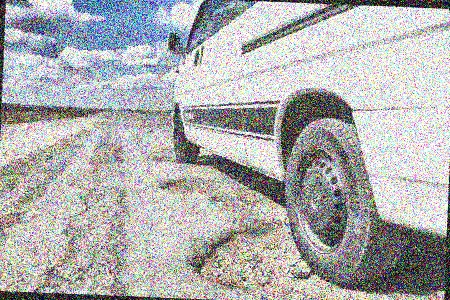pothole: (187, 217, 332, 300), (160, 173, 236, 196), (152, 153, 180, 163)
